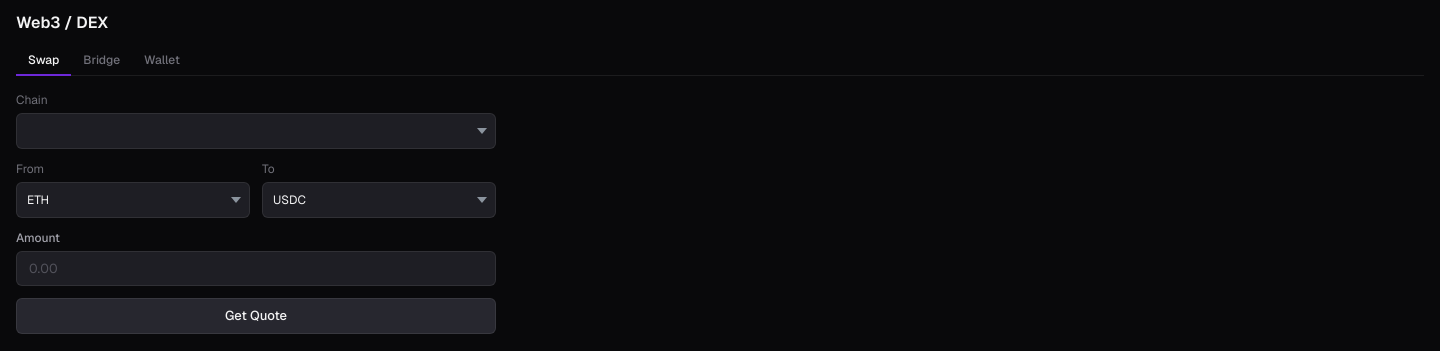
Test: Web3Page › wallet tab shows multi-chain balances
Click the tab "Wallet" at {"x": 162, "y": 61}, box 132,46 -> 192,76
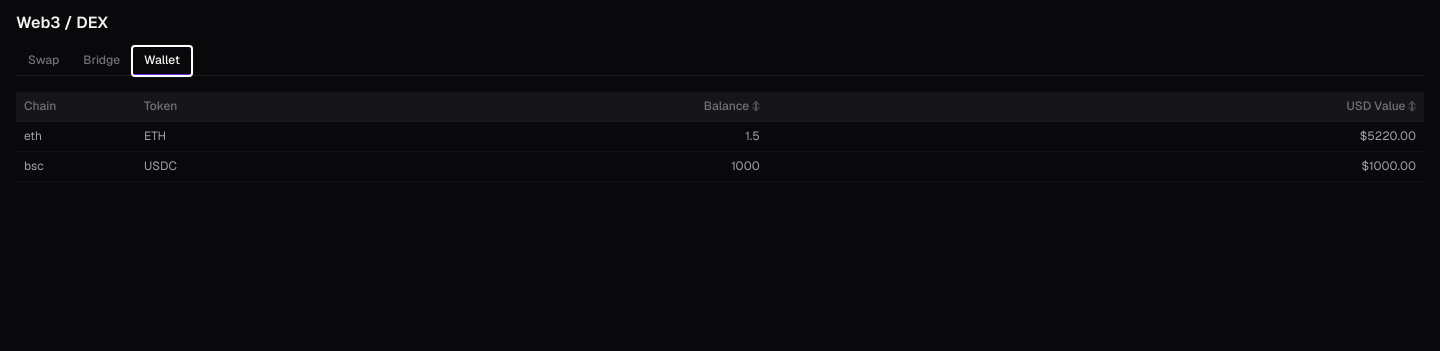
Expected: the text "ETH" is shown, 136,122 -> 216,152
Expected: the text "USDC" is shown, 136,152 -> 216,181
Expected: the text "eth" is shown, 16,122 -> 136,152
